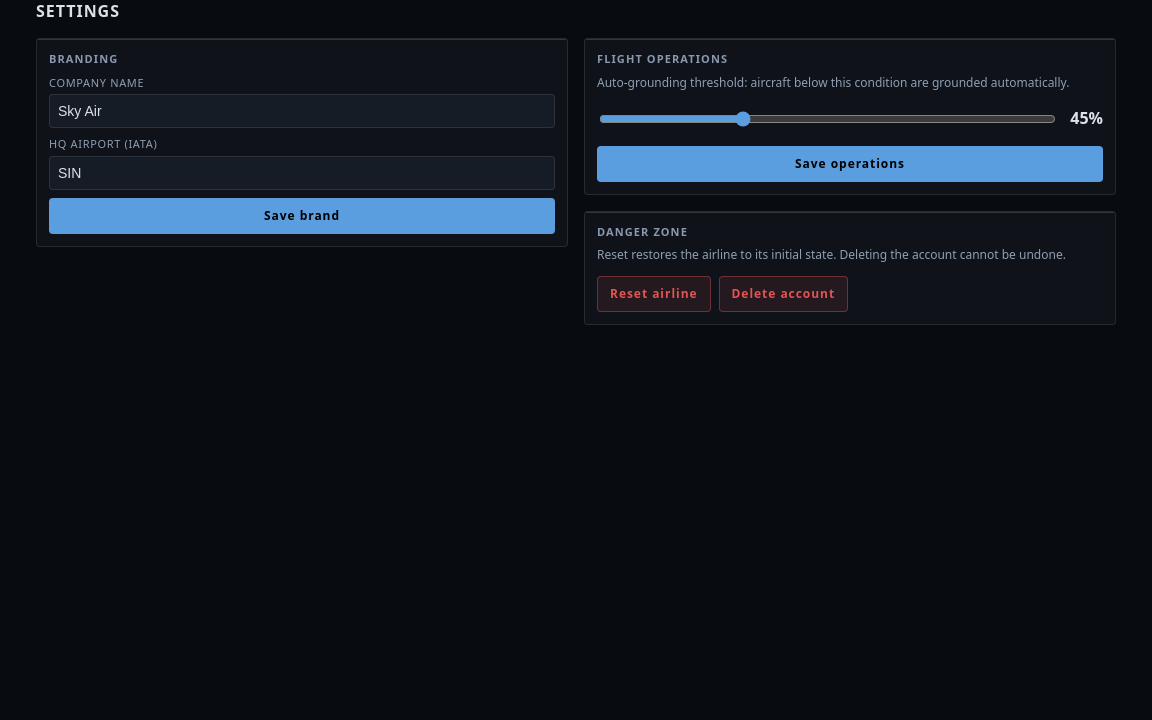
Test: SettingsView › requires typing DELETE to enable account deletion
Click the button "Delete account".
click(783, 294)  # box left=718, top=276, right=848, bottom=312
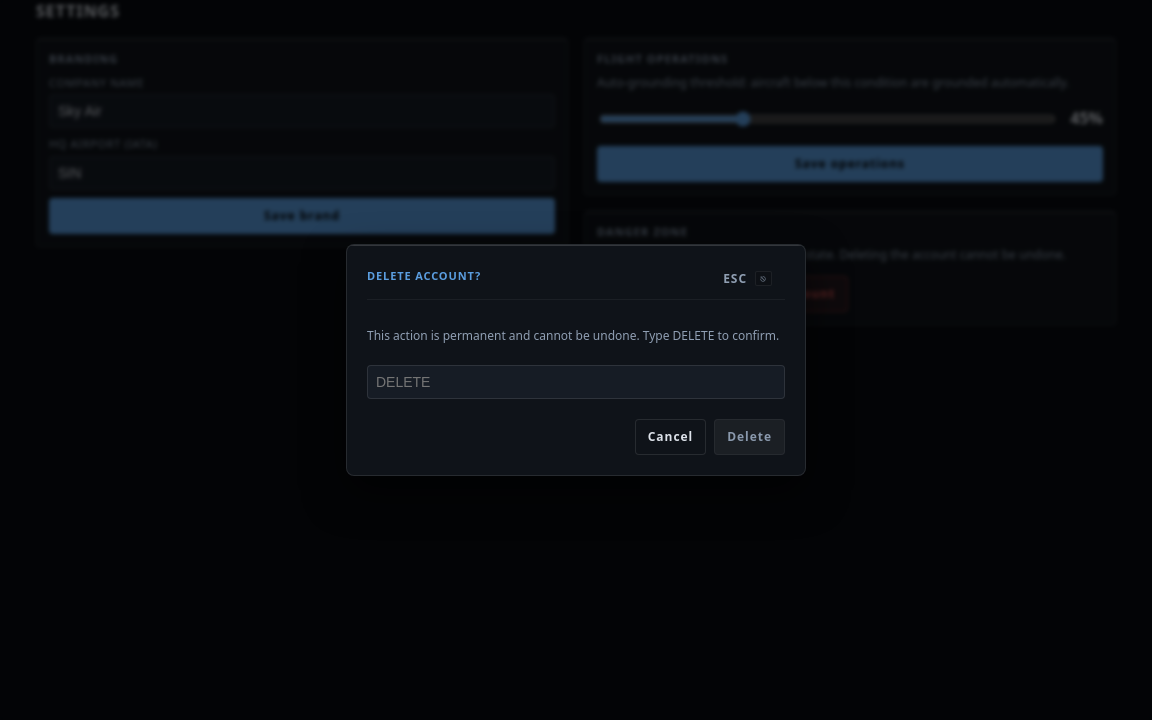
Check: the button "Delete" is disabled, box left=714, top=419, right=785, bottom=455
